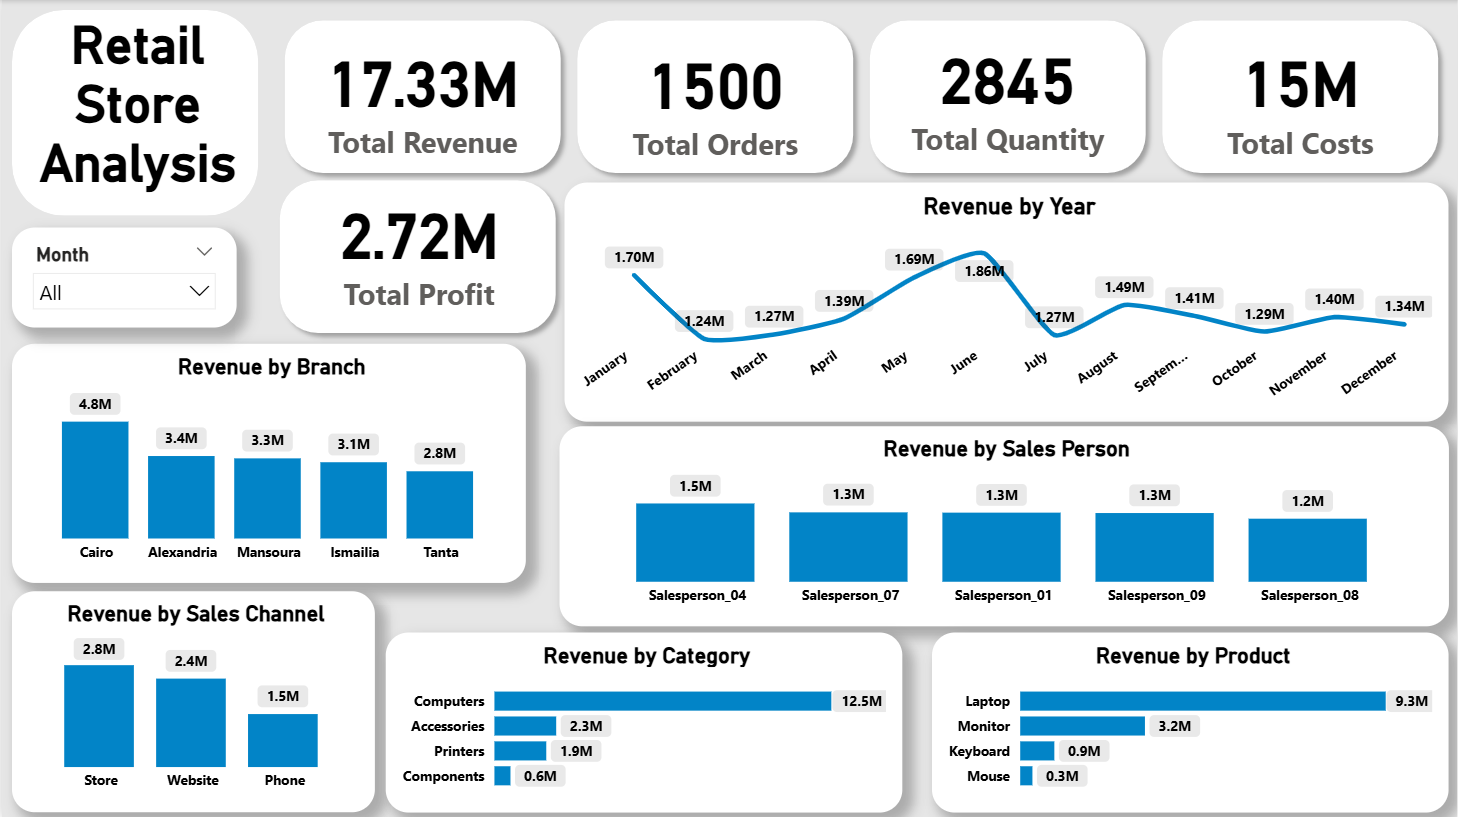

What the dashboard file says about the page in this screenshot:
{"tool":"powerbi","page":{"name":"Overview","canvas":[1280,720],"ordinal":0},"visuals":[{"type":"shape","box":[496.8,8.3,260.7,152.4],"z":0},{"type":"shape","box":[239.3,8.3,260.7,152.4],"z":1000},{"type":"shape","box":[8.3,8.3,216.7,181],"z":2000},{"type":"textbox","title":"Retail Store Analysis","box":[0,13.1,239.3,189.3],"z":3000},{"type":"card","fields":{"Values":["Measures (2).Total Revenue"]},"box":[251.2,0,239.3,167.9],"z":4000},{"type":"shape","box":[1011.9,8.3,260.7,152.4],"z":5000},{"type":"shape","box":[235.7,150,260.7,152.4],"z":6000},{"type":"shape","box":[754.4,8.3,260.7,152.4],"z":7000},{"type":"card","fields":{"Values":["Measures (2).Total Orders"]},"box":[508.3,0,239.3,171.4],"z":8000},{"type":"card","fields":{"Values":["Measures (2).Total Quantity"]},"box":[765.5,0,239.3,163.1],"z":9000},{"type":"card","fields":{"Values":["Measures (2).Total Costs"]},"box":[1022.6,0,239.3,169],"z":10000},{"type":"card","fields":{"Values":["Measures (2).Total Profit"]},"box":[247.6,122.6,239.3,189.3],"z":11000},{"type":"lineChart","title":"Revenue by Year","fields":{"Y":["Measures (2).Total Revenue"],"Category":["data_detective_sales_training.Month.Variation.Date Hierarchy.Month"]},"box":[494.5,160.5,777.9,210.5],"z":12000},{"type":"columnChart","title":"Revenue by Branch","fields":{"Y":["Measures (2).Total Revenue"],"Category":["data_detective_sales_training.Branch"]},"box":[8.3,302.4,452.4,210.7],"z":13000},{"type":"columnChart","title":"Revenue by Sales Person","fields":{"Y":["Measures (2).Total Revenue"],"Category":["data_detective_sales_training.Salesperson"]},"box":[490.3,375.3,782.1,176.2],"z":14000},{"type":"slicer","fields":{"Values":["data_detective_sales_training.Month Name"]},"box":[8.3,200,197.6,88.1],"z":15000},{"type":"columnChart","title":"Revenue by Sales Channel","fields":{"Y":["Measures (2).Total Revenue"],"Category":["data_detective_sales_training.Sales_Channel"]},"box":[8.3,520.2,319,194],"z":16000},{"type":"barChart","title":"Revenue by Category","fields":{"Category":["data_detective_sales_training.Category"],"Y":["Measures (2).Total Revenue"]},"box":[338.1,556,454.8,158.3],"z":17000},{"type":"barChart","title":"Revenue by Product","fields":{"Y":["Measures (2).Total Revenue"],"Category":["data_detective_sales_training.Product"]},"box":[817.7,556,454.8,158.3],"z":18000}]}

Visuals, with their boxes in screenshot pixels (x1, y1, x2, y2), scaled from the page's 1280x720 canvas onto the 1458x817 screenshot:
shape: bbox=[566, 9, 863, 182]
shape: bbox=[273, 9, 570, 182]
shape: bbox=[9, 9, 256, 215]
"Retail Store Analysis" textbox: bbox=[0, 15, 273, 230]
card - Measures (2).Total Revenue: bbox=[286, 0, 559, 191]
shape: bbox=[1153, 9, 1450, 182]
shape: bbox=[268, 170, 565, 343]
shape: bbox=[859, 9, 1156, 182]
card - Measures (2).Total Orders: bbox=[579, 0, 852, 194]
card - Measures (2).Total Quantity: bbox=[872, 0, 1145, 185]
card - Measures (2).Total Costs: bbox=[1165, 0, 1437, 192]
card - Measures (2).Total Profit: bbox=[282, 139, 555, 354]
"Revenue by Year" lineChart: bbox=[563, 182, 1449, 421]
"Revenue by Branch" columnChart: bbox=[9, 343, 525, 582]
"Revenue by Sales Person" columnChart: bbox=[558, 426, 1449, 626]
slicer - data_detective_sales_training.Month Name: bbox=[9, 227, 235, 327]
"Revenue by Sales Channel" columnChart: bbox=[9, 590, 373, 810]
"Revenue by Category" barChart: bbox=[385, 631, 903, 811]
"Revenue by Product" barChart: bbox=[931, 631, 1449, 811]
